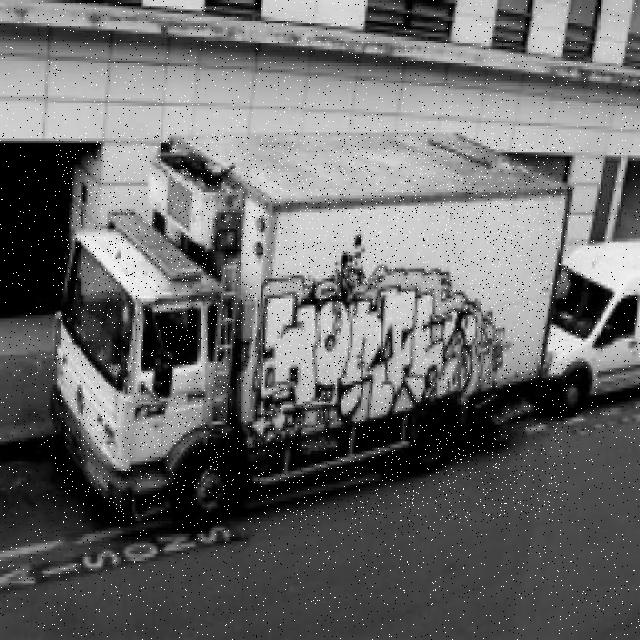Box Truck: (53, 133, 570, 523)
